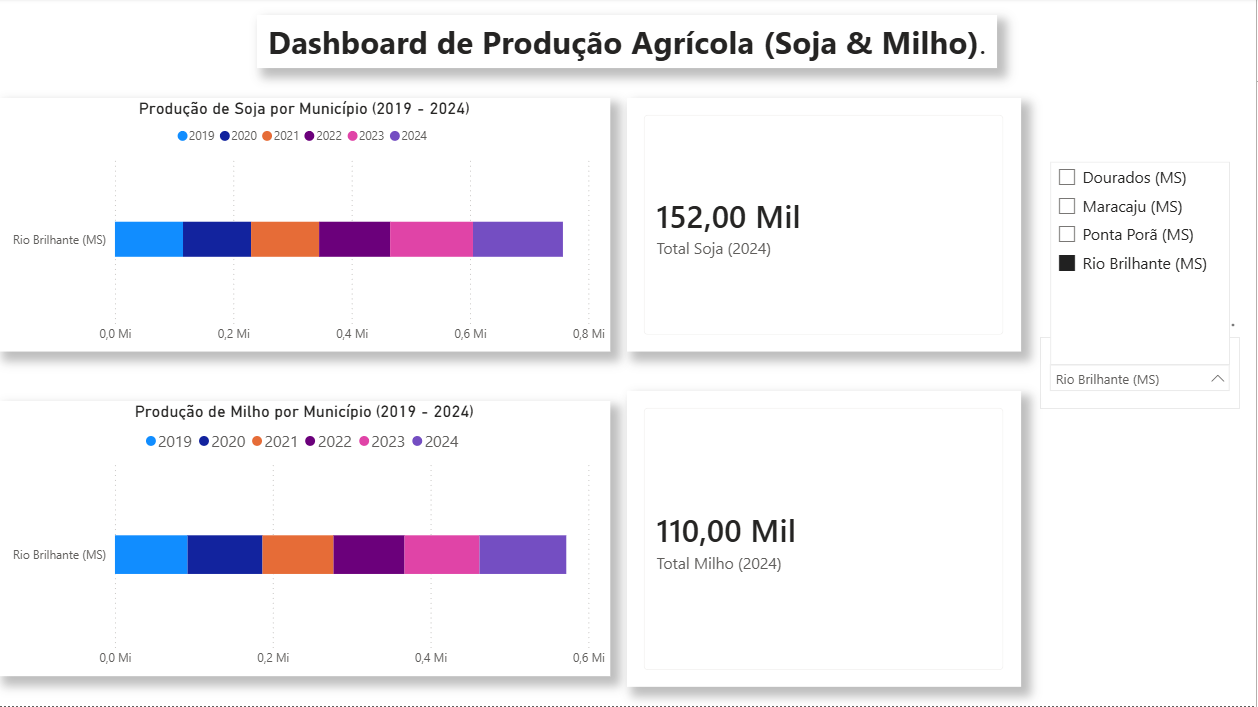

The page's visual inventory and layout, read from the dashboard file:
{"tool":"powerbi","page":{"name":"Página 1","canvas":[1280,720],"ordinal":0},"visuals":[{"type":"barChart","title":"Produção de Soja por Município (2019 - 2024)","fields":{"Category":["public vw_producao_limpa.municipio"],"Y":["Sum(public vw_producao_limpa.soja_2019)","Sum(public vw_producao_limpa.soja_2020)","Sum(public vw_producao_limpa.soja_2021)","Sum(public vw_producao_limpa.soja_2022)","Sum(public vw_producao_limpa.soja_2023)","Sum(public vw_producao_limpa.soja_2024)"]},"box":[0,101.7,622.7,258.4],"z":0},{"type":"barChart","title":"Produção de Milho por Município (2019 - 2024)","fields":{"Category":["public vw_producao_limpa.municipio"],"Y":["Sum(public vw_producao_limpa.milho_2019)","Sum(public vw_producao_limpa.milho_2020)","Sum(public vw_producao_limpa.milho_2021)","Sum(public vw_producao_limpa.milho_2022)","Sum(public vw_producao_limpa.milho_2023)","Sum(public vw_producao_limpa.milho_2024)"]},"box":[0,410,622.7,279.8],"z":1},{"type":"slicer","fields":{"Values":["public vw_producao_limpa.municipio"]},"box":[1060.2,344.9,203.5,73.3],"z":2},{"type":"cardVisual","fields":{"Data":["Sum(public vw_producao_limpa.soja_2024)"]},"box":[640,101.7,400.9,258.4],"z":3},{"type":"cardVisual","fields":{"Data":["Sum(public vw_producao_limpa.milho_2024)"]},"box":[640,399.9,400.9,301.2],"z":4},{"type":"textbox","box":[263.5,17.3,752.9,53.9],"z":5}]}

Visuals, with their boxes in screenshot pixels (x1, y1, x2, y2), scaled from the page's 1280x720 canvas onto the 1258x707 screenshot:
"Produção de Soja por Município (2019 - 2024)" barChart: l=0, t=100, r=612, b=354
"Produção de Milho por Município (2019 - 2024)" barChart: l=0, t=403, r=612, b=677
slicer - public vw_producao_limpa.municipio: l=1042, t=339, r=1242, b=411
cardVisual - Sum(public vw_producao_limpa.soja_2024): l=629, t=100, r=1023, b=354
cardVisual - Sum(public vw_producao_limpa.milho_2024): l=629, t=393, r=1023, b=688
textbox: l=259, t=17, r=999, b=70
